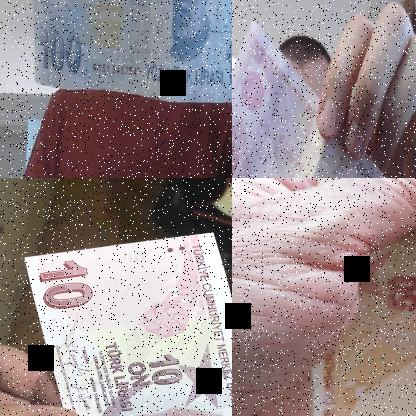5 TL: (33, 0, 231, 106)
